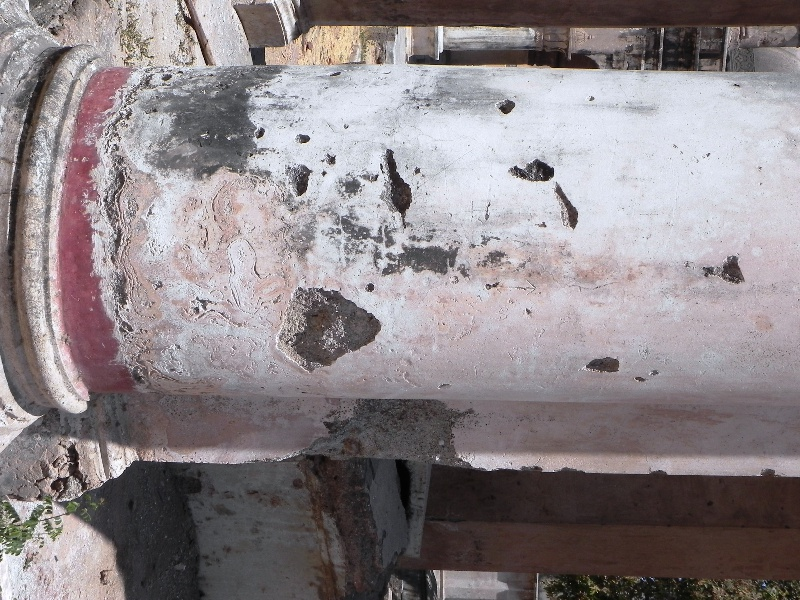Spalling: (275, 283, 385, 372), (97, 121, 135, 330), (506, 147, 591, 231), (375, 138, 416, 231), (692, 251, 755, 291), (577, 347, 627, 383), (284, 152, 318, 196), (490, 91, 513, 122)
